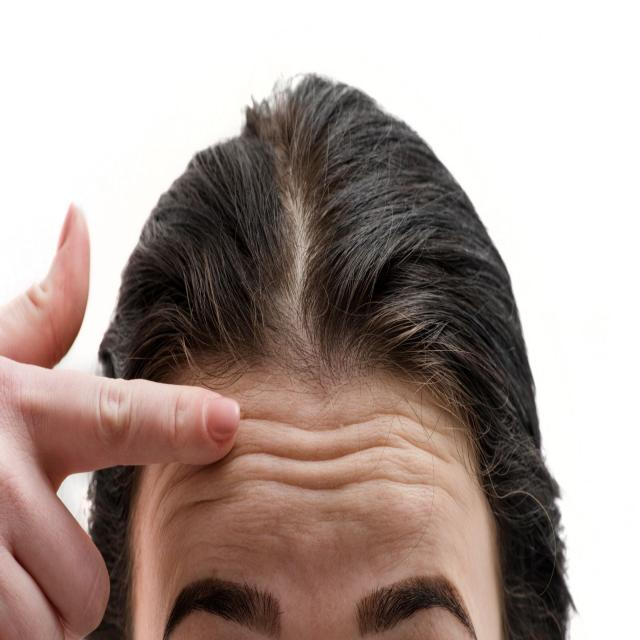Wrinkles: (163, 474, 465, 531), (220, 432, 451, 467), (240, 408, 458, 441), (155, 464, 217, 515)
